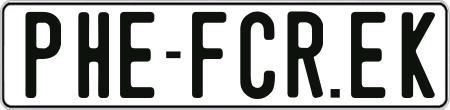C: (239, 10, 276, 99)
E: (348, 9, 386, 101), (120, 9, 159, 97)
F: (191, 12, 231, 104)
H: (78, 9, 110, 97)
K: (399, 10, 431, 97)
P: (24, 11, 59, 100)
R: (285, 8, 320, 101)
